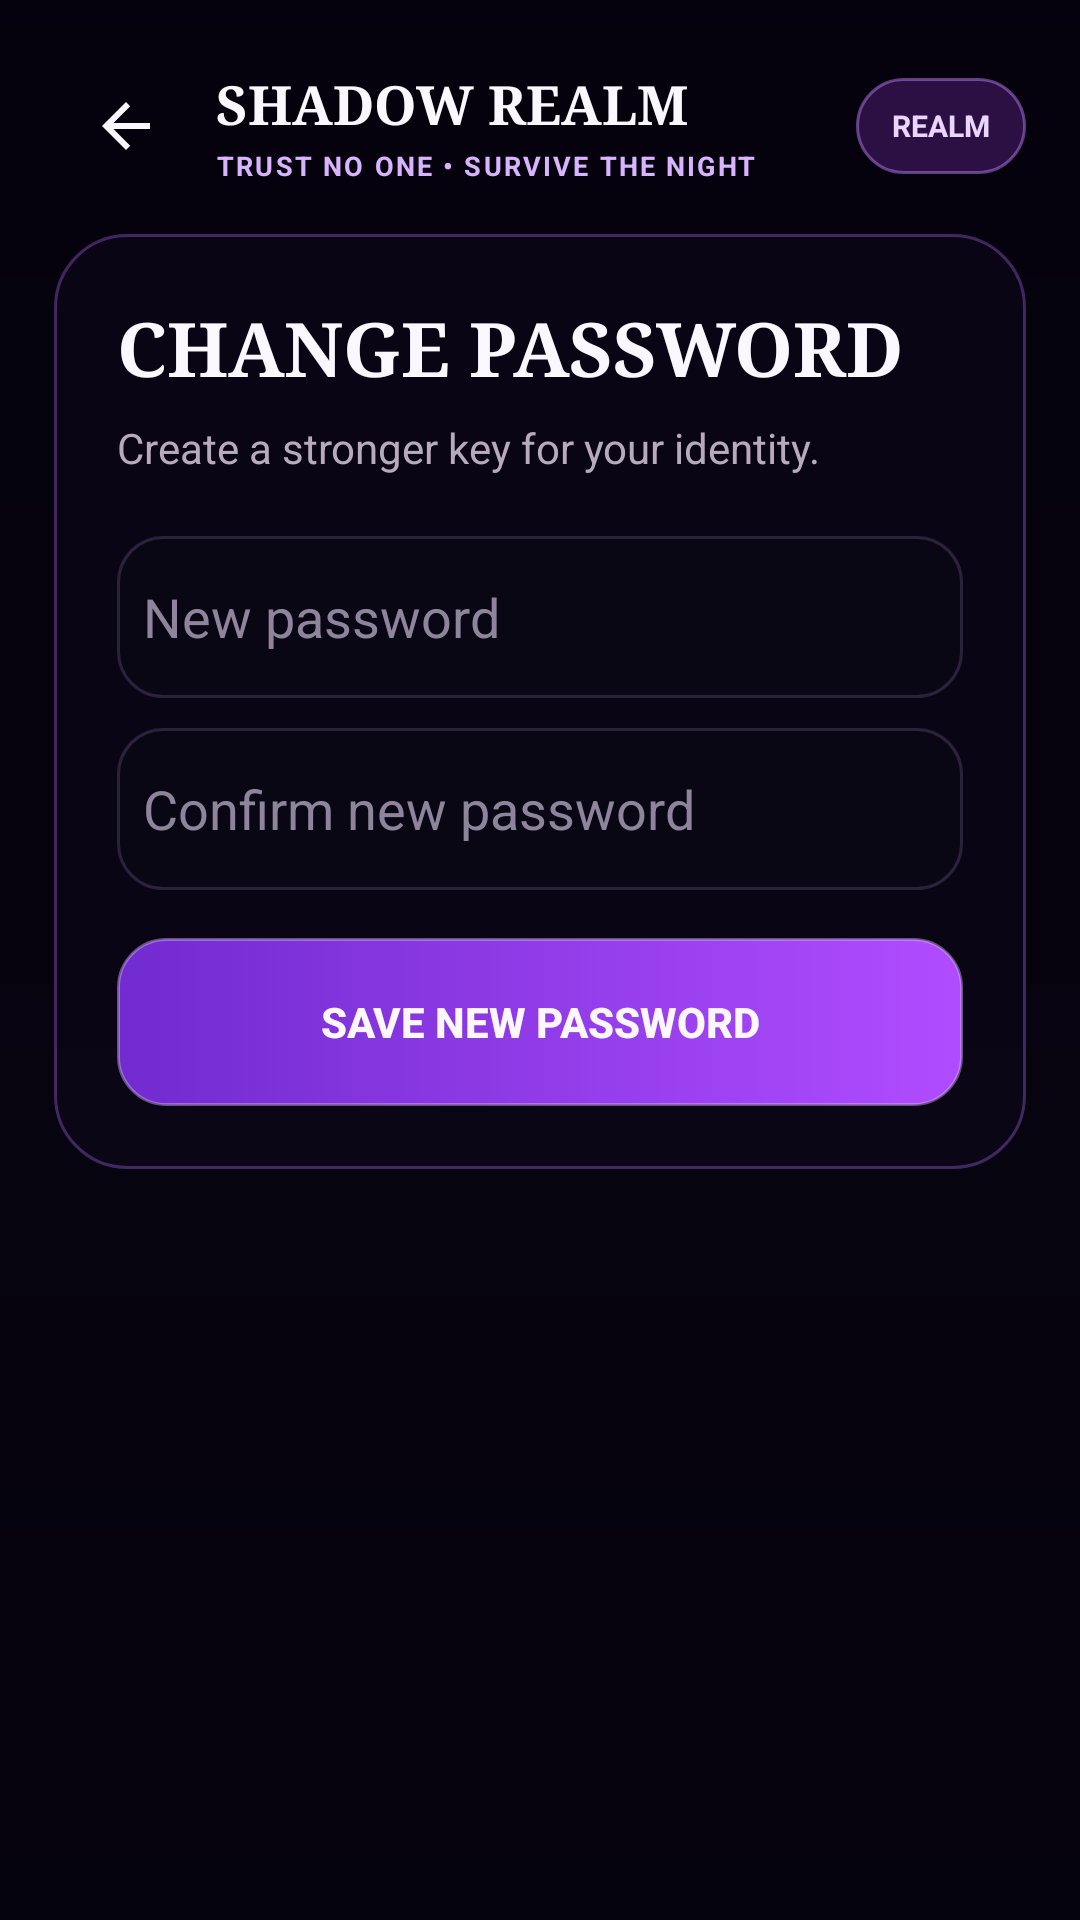

Icon bounding boxes for this 1080px×1920px phone screenshot, format {"x1": x1, "y1": y1, "x2": x2, "y2": y2}:
Back: {"x1": 102, "y1": 102, "x2": 150, "y2": 150}
